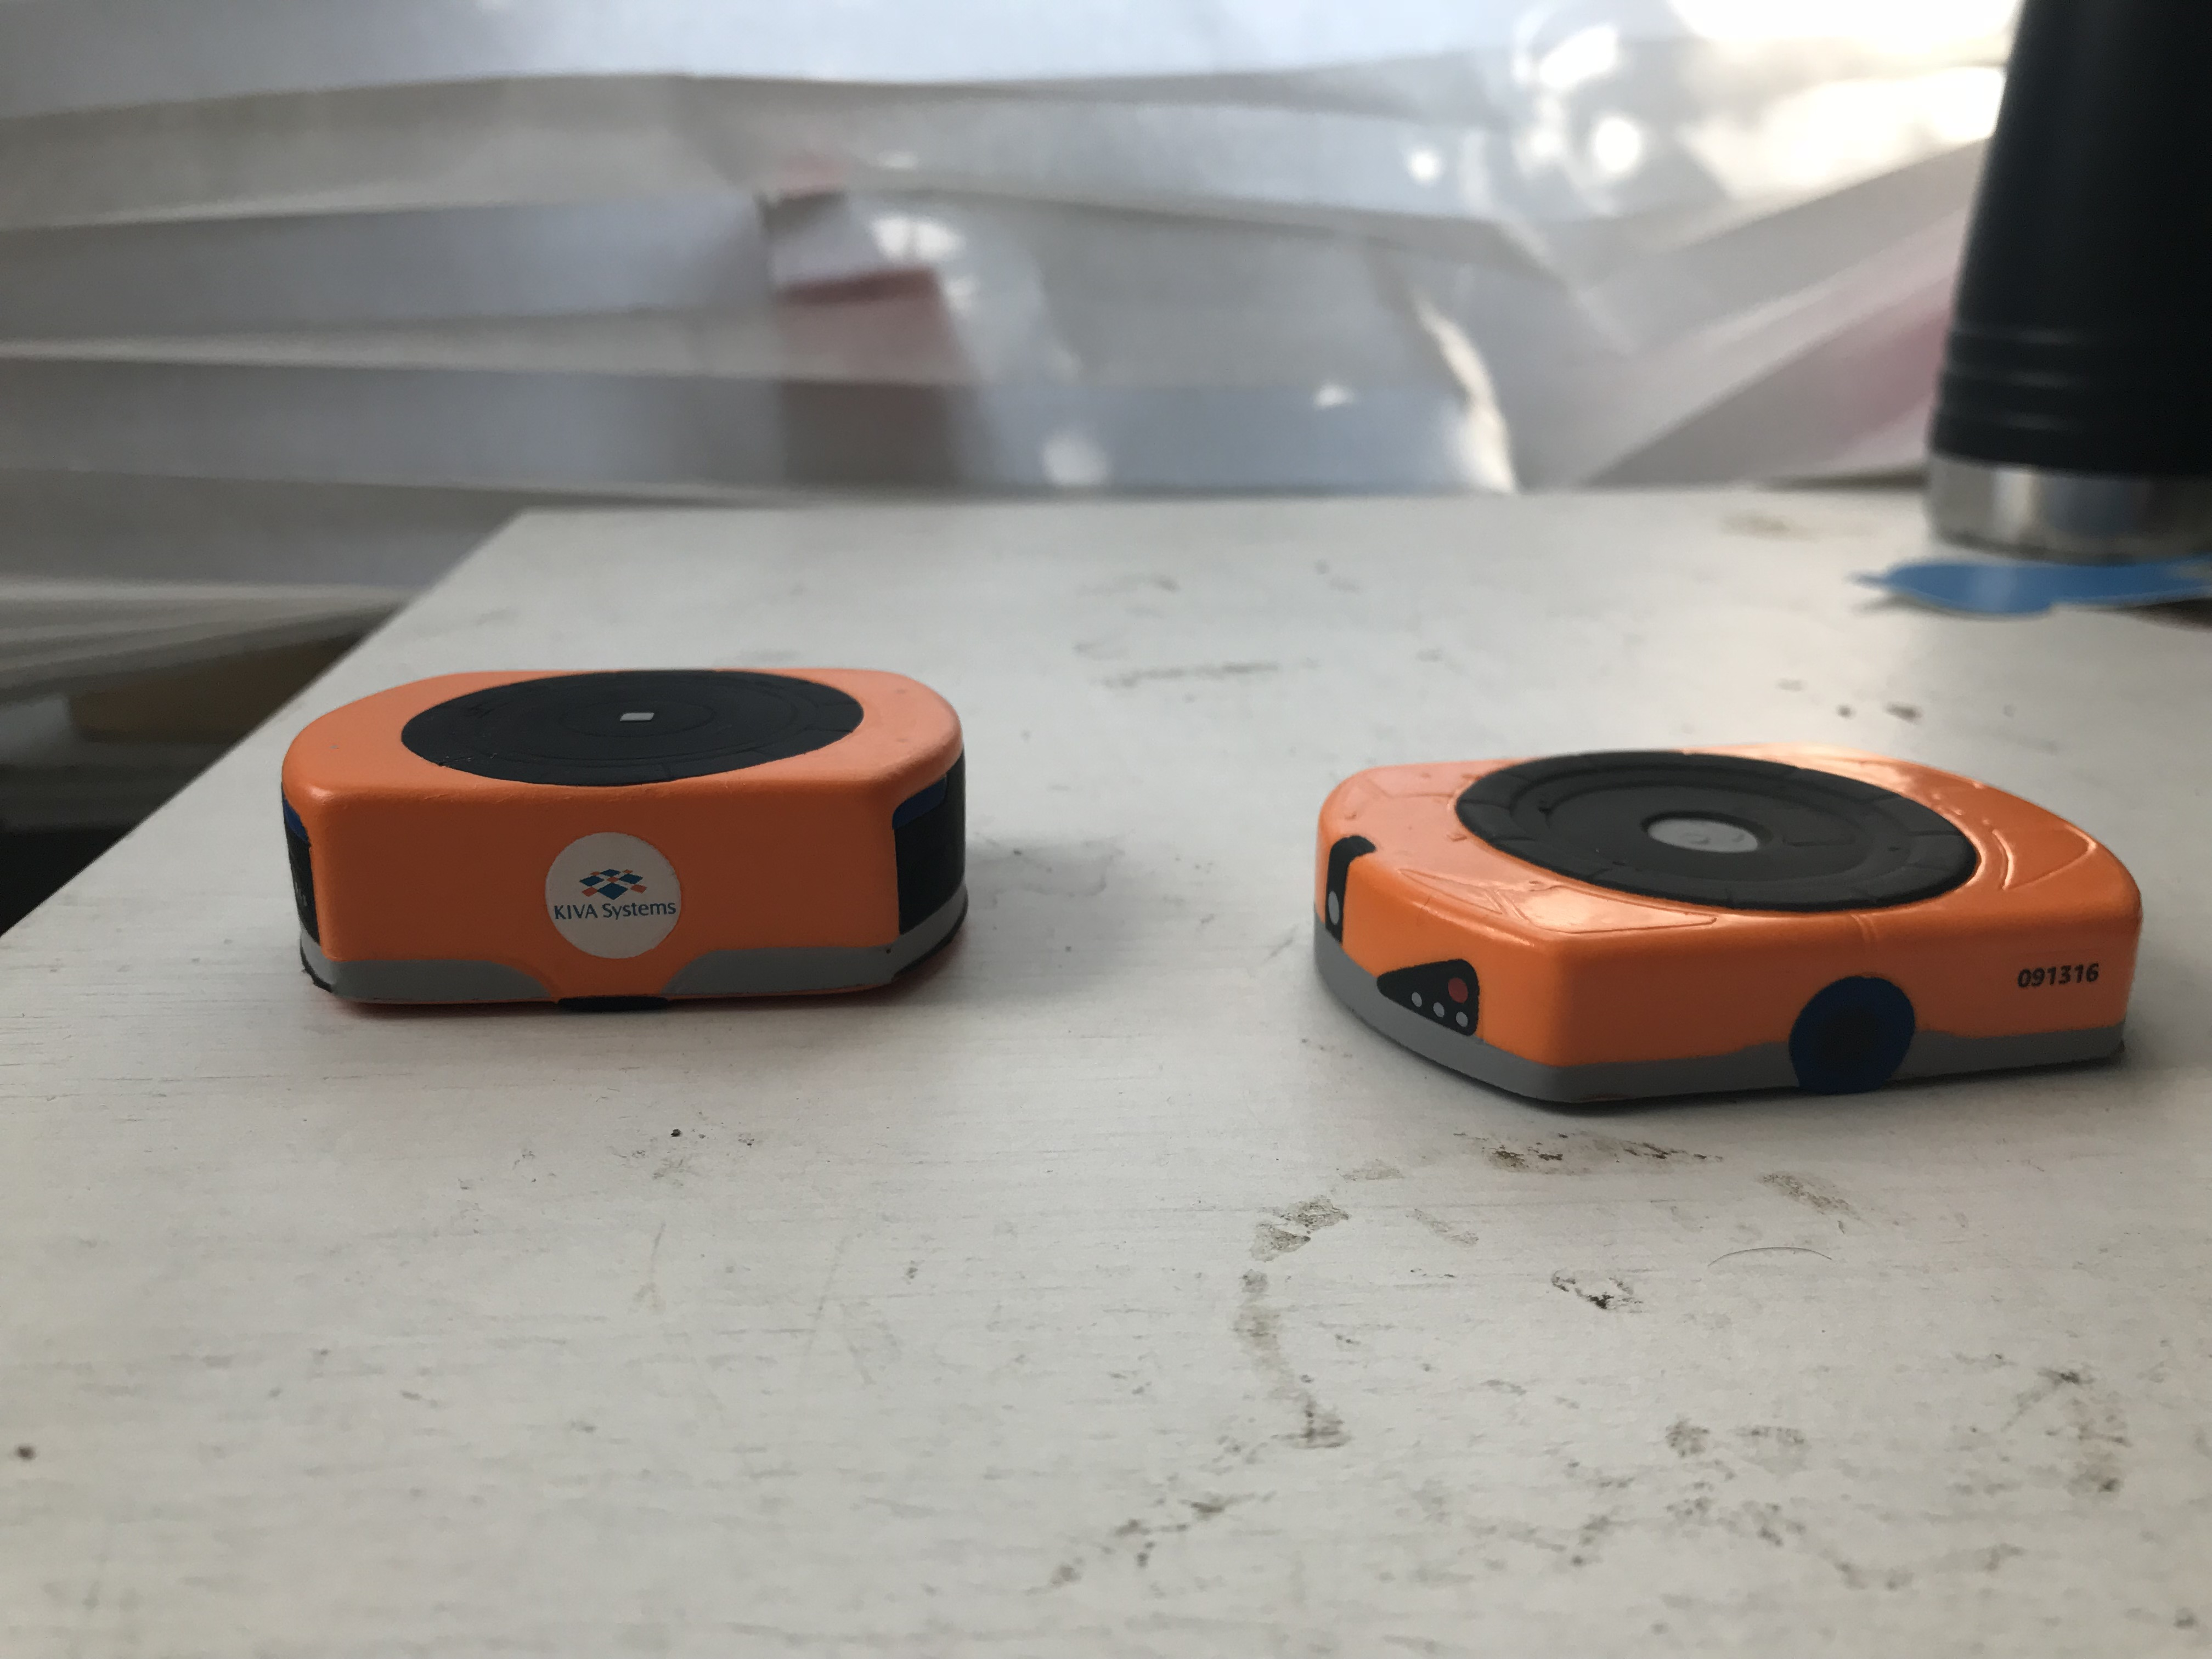amazon_bot: (1312, 734, 2160, 1105), (266, 655, 982, 1012)
